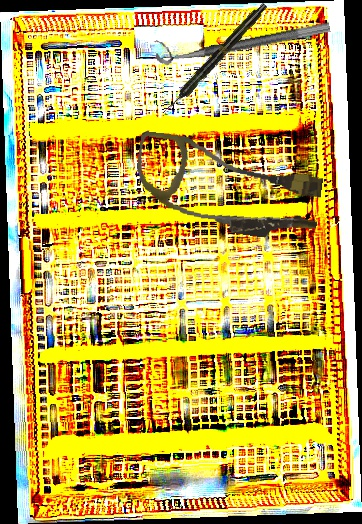Cannula: (129, 130, 327, 245)
Fixation Ring: (153, 7, 331, 67)
Handpiece: (164, 0, 270, 113)
